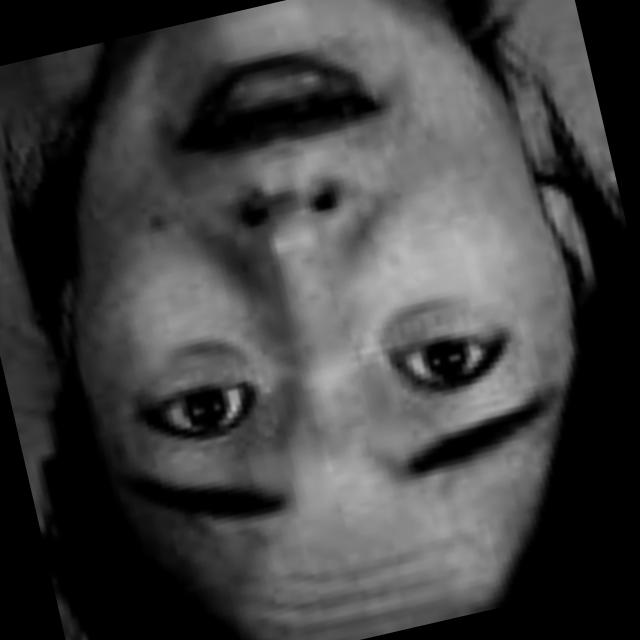fear: (16, 0, 605, 640)
